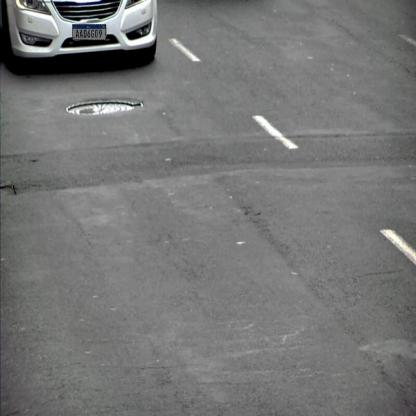PlacaM: (72, 24, 106, 40)
